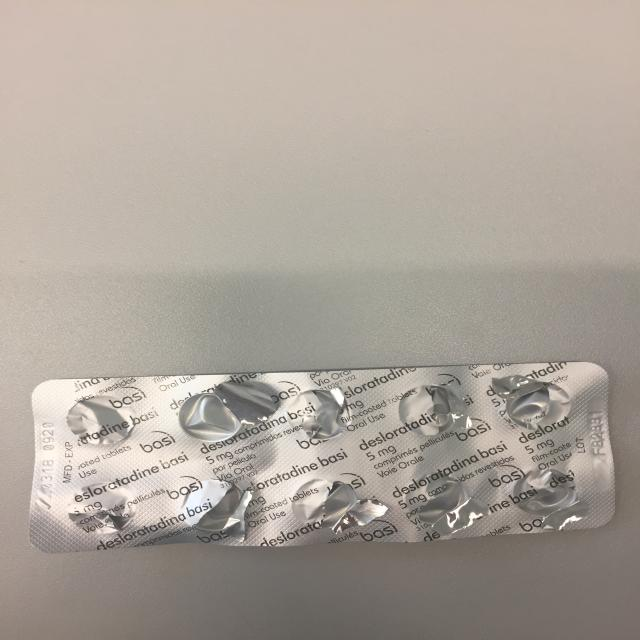Empty: (175, 476, 260, 538), (174, 388, 260, 446), (286, 474, 372, 532), (494, 375, 575, 435), (62, 480, 141, 537), (392, 381, 470, 438), (58, 394, 140, 448), (398, 472, 483, 524), (284, 386, 361, 443), (510, 466, 582, 525)
